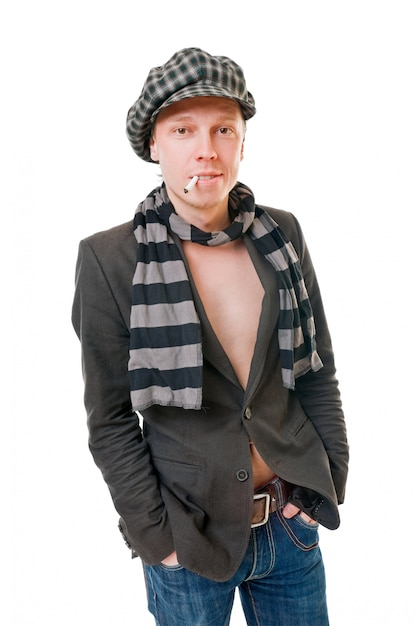cigarette: (181, 173, 202, 194)
